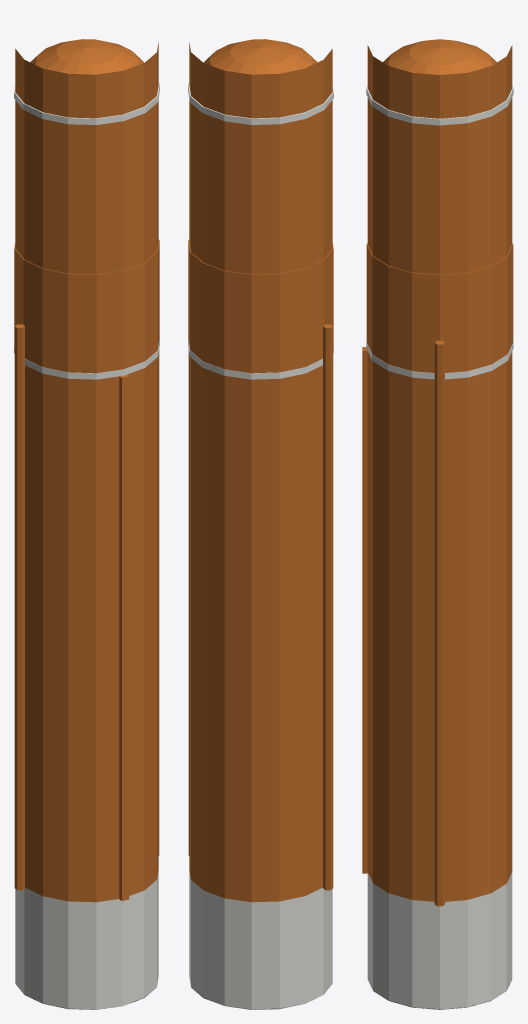
File: sls-core-stage-tanks.glb
3 renders of one model, left to right at view 1: azimuth 30°, elevation 25°; view 2: azimuth 150°, elevation 25°; view 3: azimuth 270°, elevation 25°, orthographic.
Parts seen in each view (by area): view 1: SlsCoreStageTanks_Foam, SlsCoreStageTanks_Hull; view 2: SlsCoreStageTanks_Foam, SlsCoreStageTanks_Hull; view 3: SlsCoreStageTanks_Foam, SlsCoreStageTanks_Hull.
Part boxes in pixels (x1=…): SlsCoreStageTanks_Foam: x1=14, y1=39, x2=159, y2=902; SlsCoreStageTanks_Hull: x1=14, y1=83, x2=159, y2=1009; SlsCoreStageTanks_Foam: x1=188, y1=39, x2=333, y2=902; SlsCoreStageTanks_Hull: x1=188, y1=83, x2=333, y2=1009; SlsCoreStageTanks_Foam: x1=362, y1=39, x2=513, y2=906; SlsCoreStageTanks_Hull: x1=366, y1=86, x2=513, y2=1009.
Bounding box in the file's own units: 9.52 × 59.9 × 8.77.
